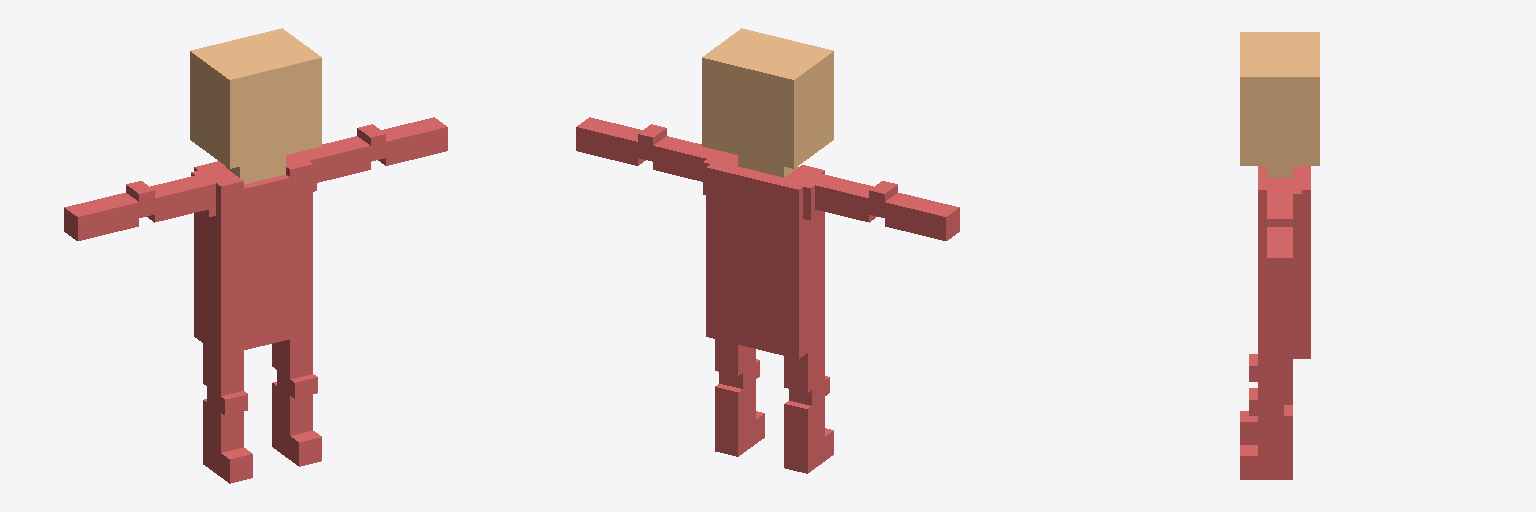
The picture shows the model from 3 angles: view 1: azimuth 30°, elevation 25°; view 2: azimuth 150°, elevation 25°; view 3: azimuth 270°, elevation 25°; orthographic projection.
Visible parts, largest first — view 1: object 1; view 2: object 1; view 3: object 1.
Boxes of the visible parts, x1=… form: object 1: x1=64, y1=28, x2=447, y2=483; object 1: x1=576, y1=28, x2=959, y2=473; object 1: x1=1240, y1=32, x2=1319, y2=479.
Bounding box in the file's own units: 4.8 × 5 × 0.9.
Materials: 1 (1 with a texture image).